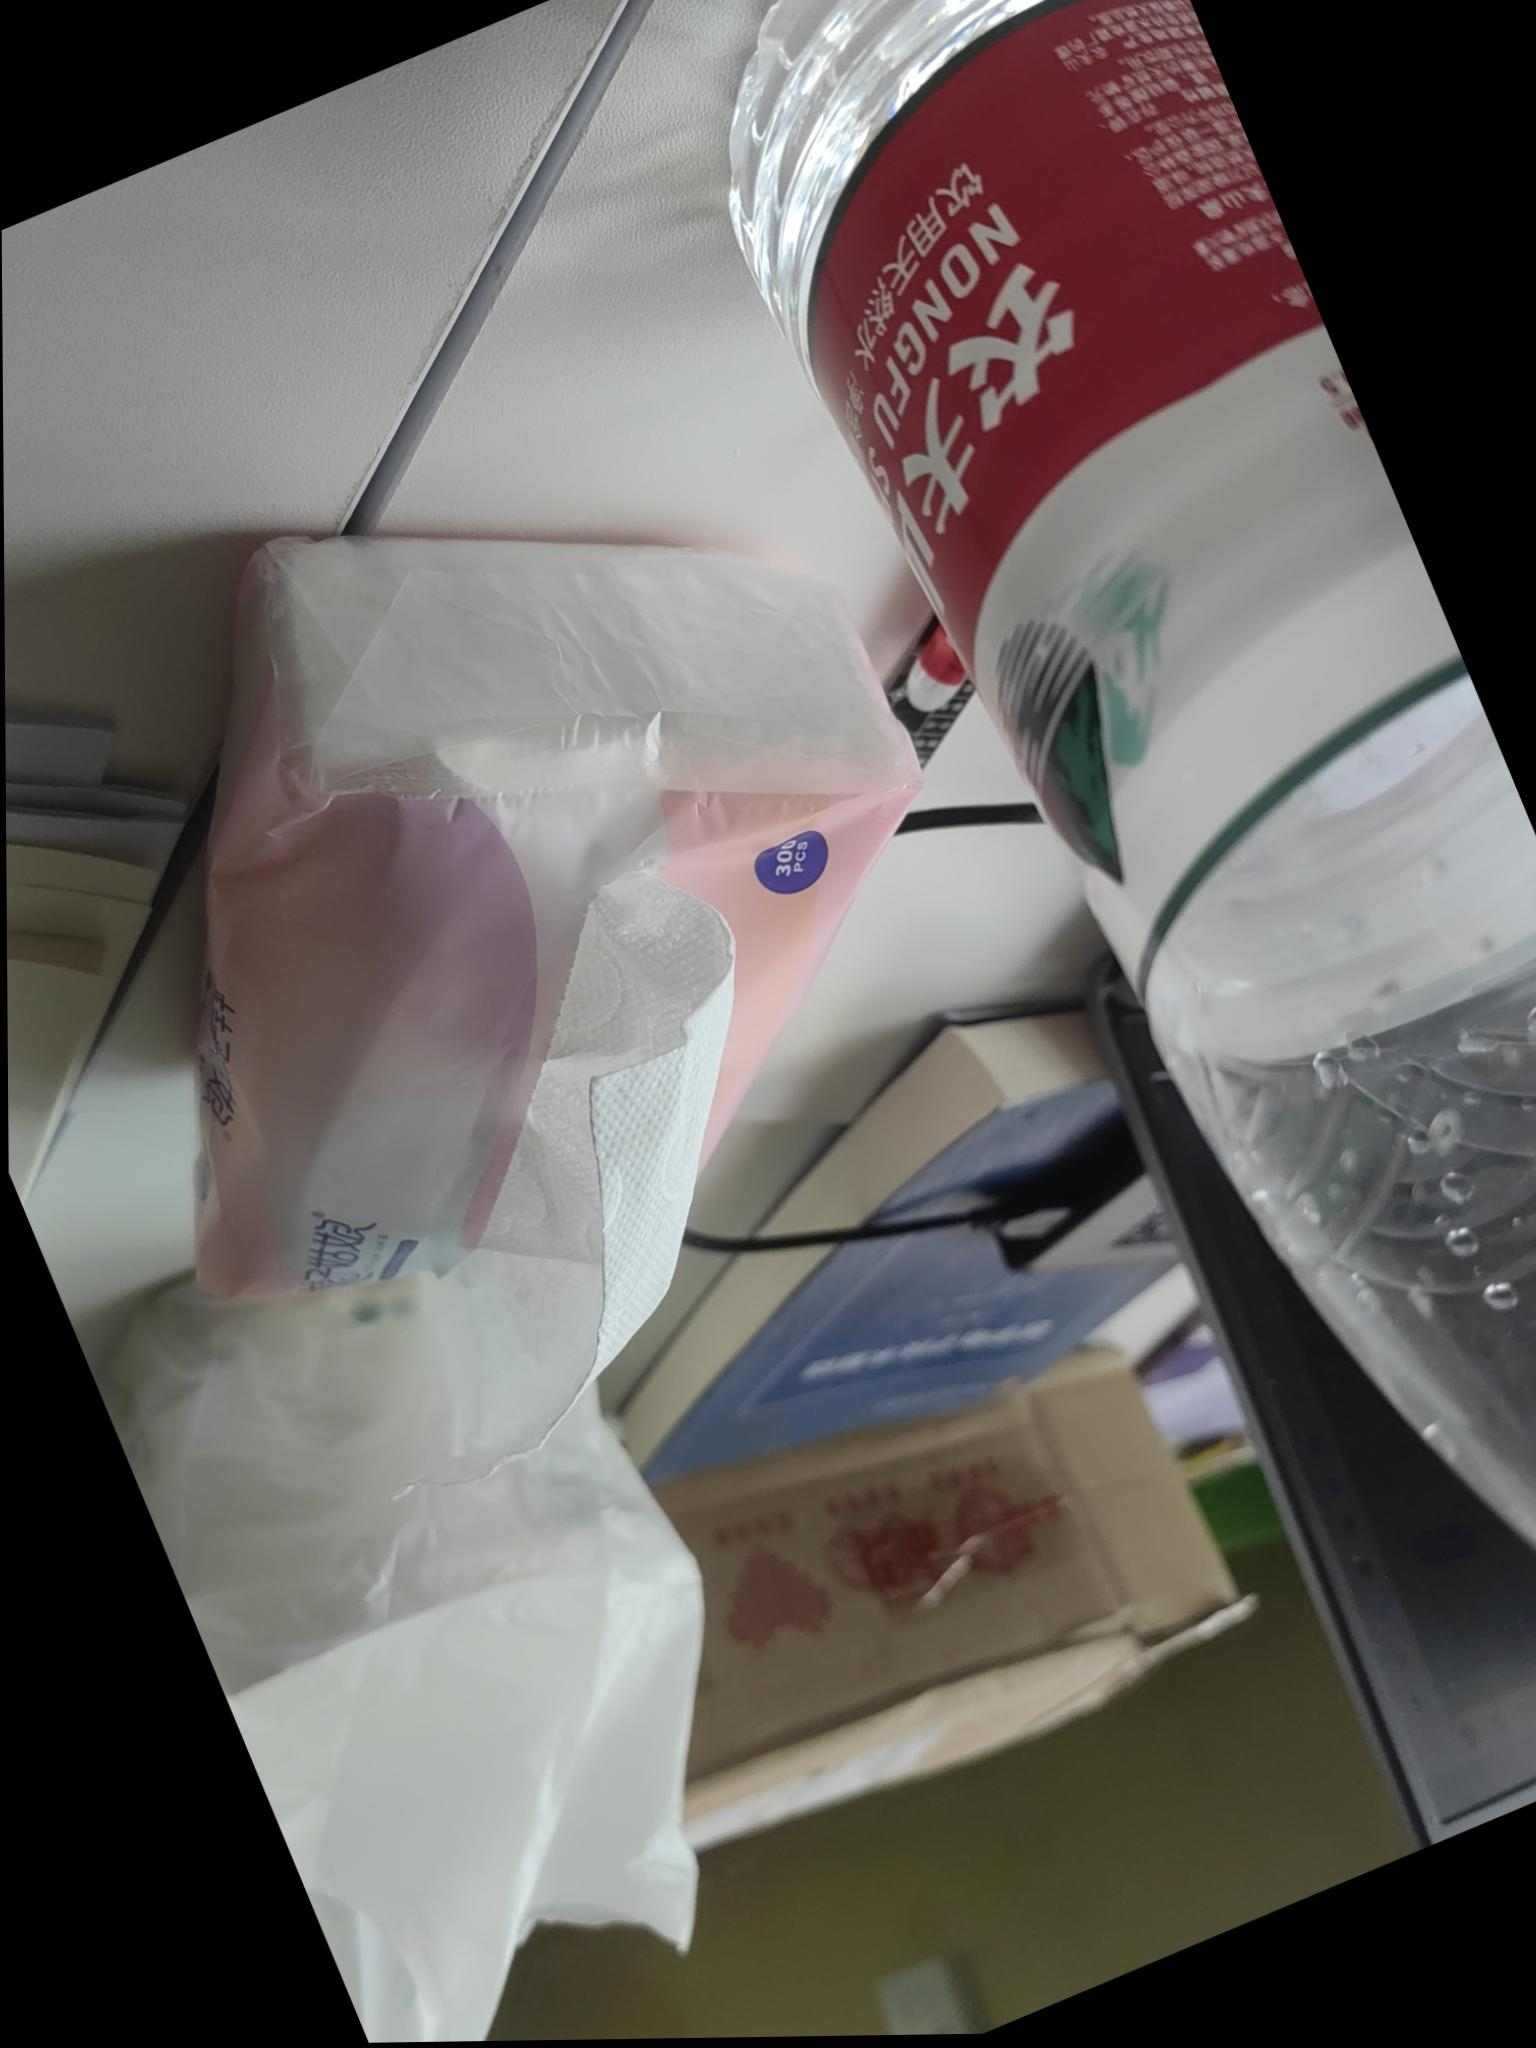plastic: (729, 0, 1534, 1837)
